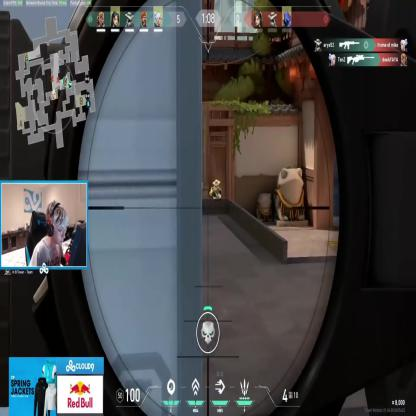enemy: (210, 178, 222, 224)
enemy_head: (213, 179, 220, 190)
